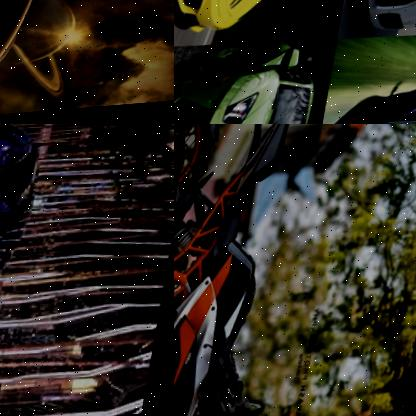bike: (174, 124, 327, 416)
car: (0, 124, 61, 369), (174, 37, 332, 124), (174, 0, 332, 40)
